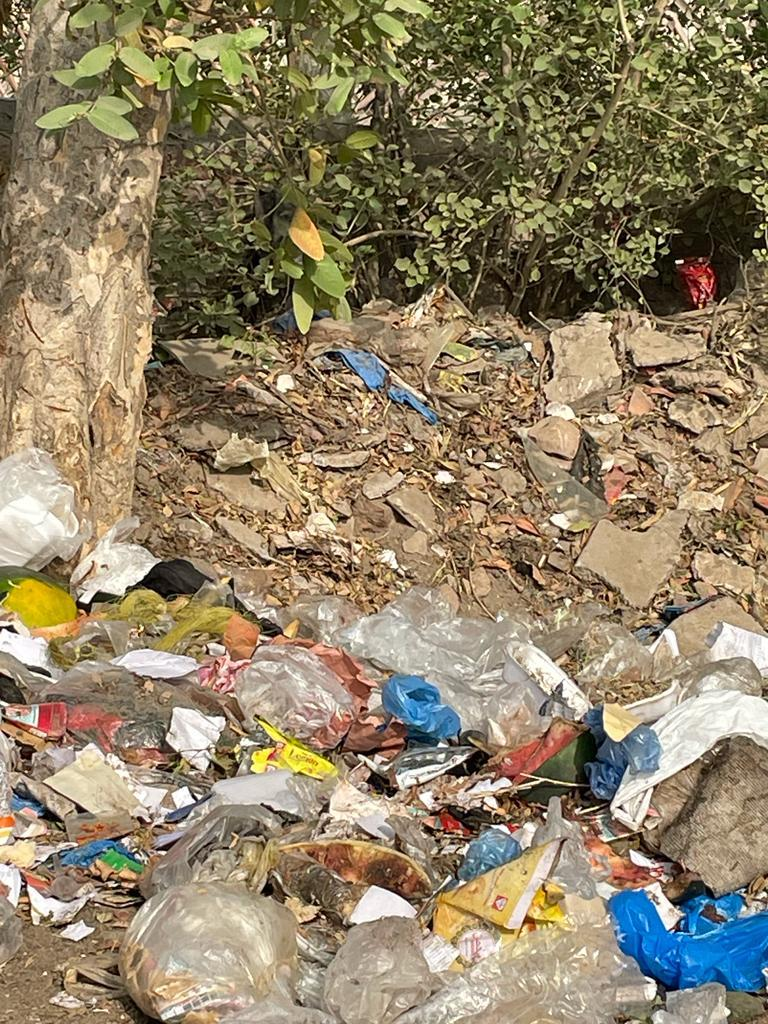garbage: (7, 550, 768, 1023)
